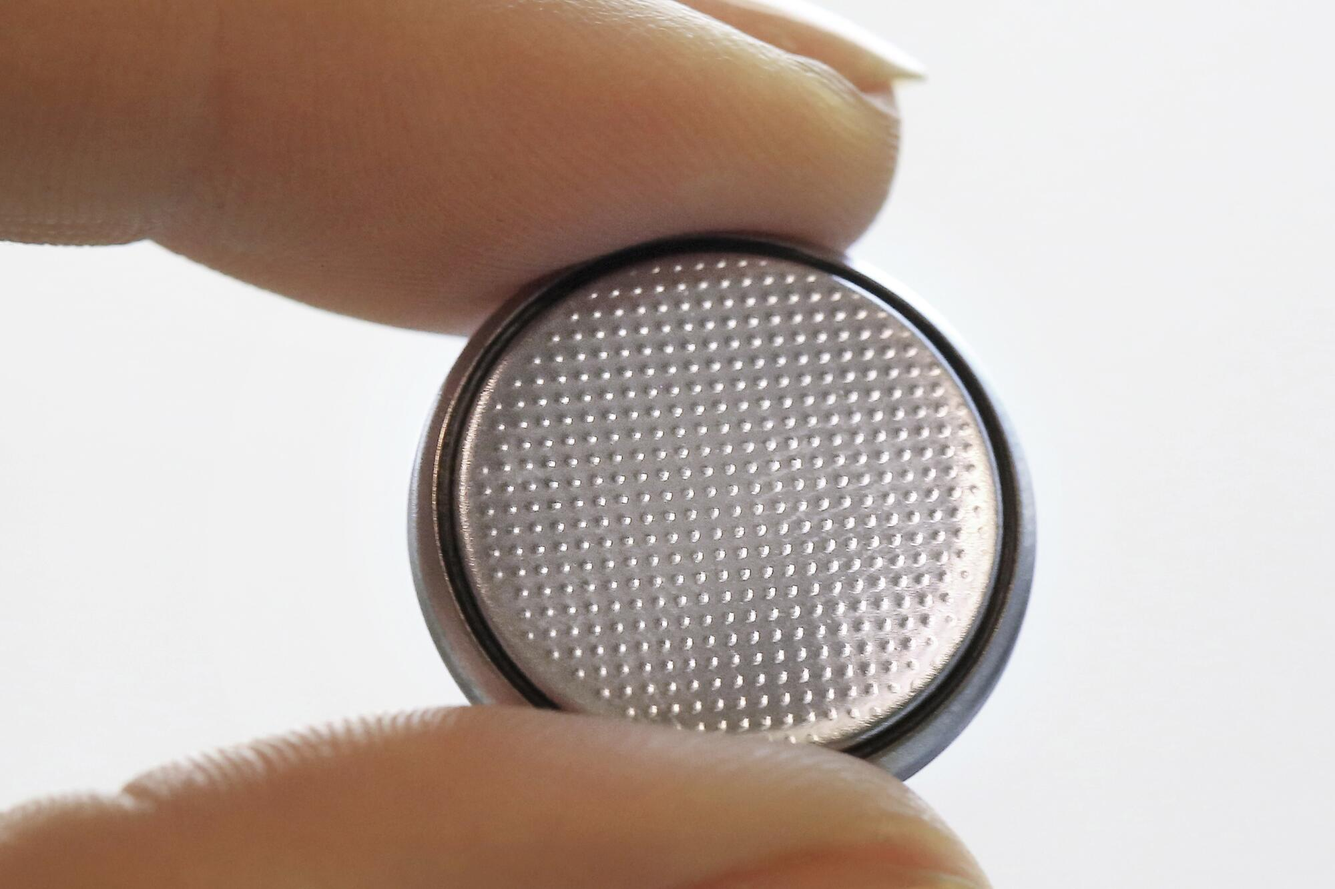COIN: (400, 226, 1044, 782)
